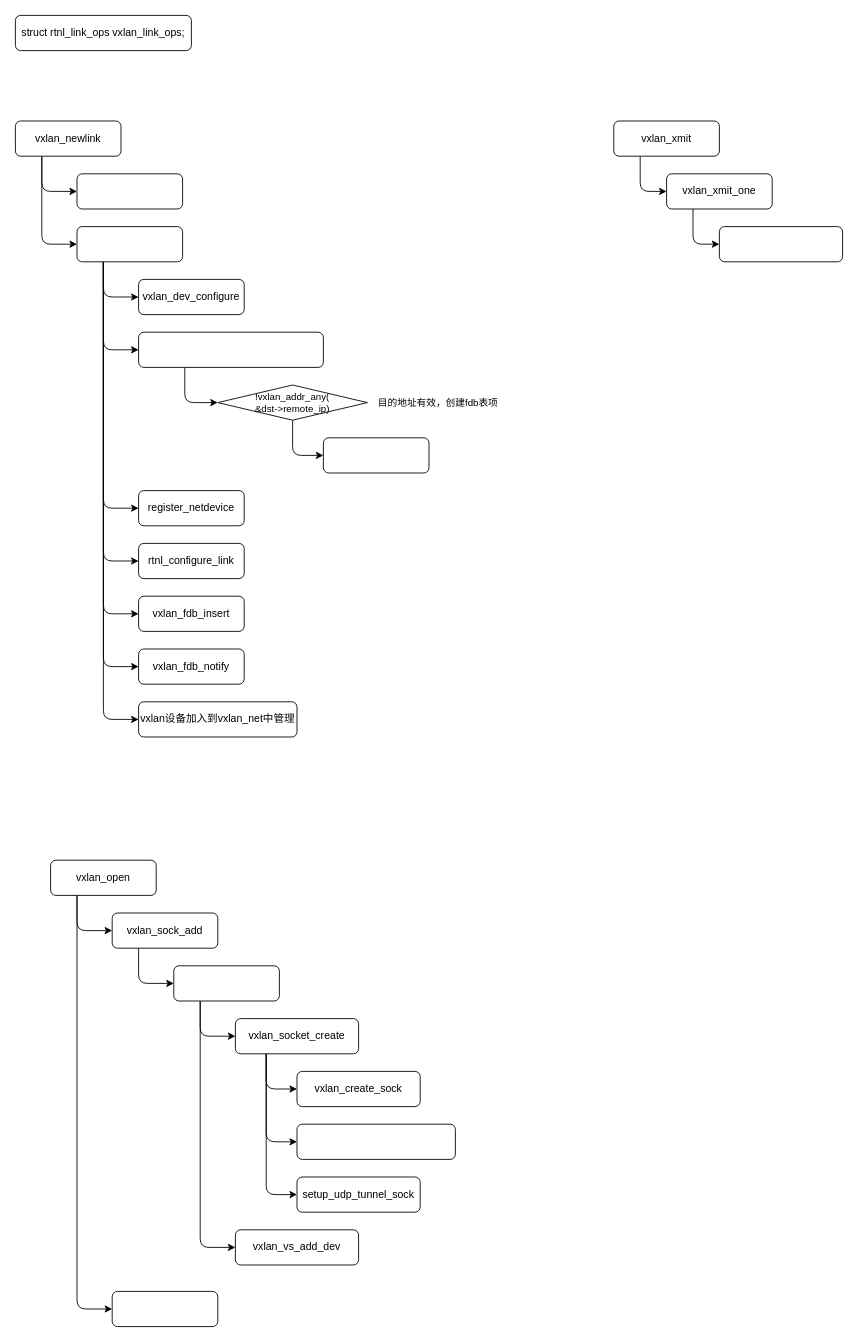
This 858x1342 diagram has some shape labels left out. Here are the shapes that lost their labels. From the top down, the centre of each, then its label:
At (x=129, y=191): "vxlan_nl2conf".
At (x=129, y=244): "__vxlan_dev_create".
At (x=781, y=244): "udp_tunnel_xmit_skb".
At (x=230, y=349): "设置ethtool_ops为vxlan_ethtool_ops".
At (x=376, y=455): "vxlan_fdb_create".
At (x=226, y=983): "__vxlan_sock_add".
At (x=375, y=1141): "udp_tunnel_notify_add_rx_port".
At (x=164, y=1309): "配置age_timer".
